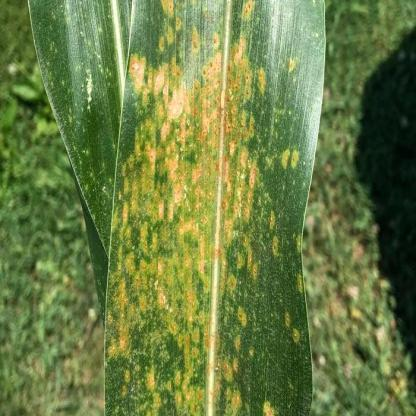Corn rust leaf: (99, 2, 322, 416)
